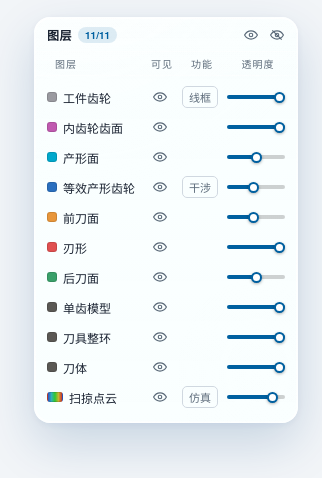
Test case: LayerPanel 图层列表 › 可见计数徽章随显隐联动（11/11 → 隐藏一层 10/11；刀体图层入列 ADR-021）
The image size is (322, 478).
Expected: the text with test id "layer-visible-count" reads "11/11", [85,28,110,42]
Click the button with test id "layer-eye-rake".
click(160, 217)  # box [148,205,172,229]
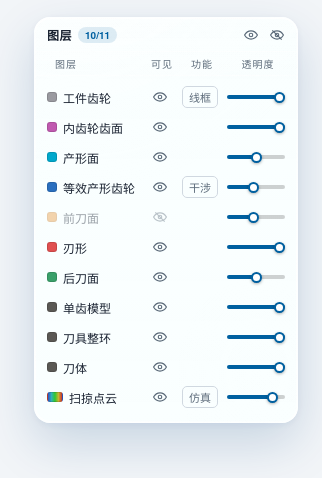
Expected: the text with test id "layer-visible-count" reads "10/11", [85,28,110,42]
Note: 全隐 → 0/11 且徽章转警示态
Click the button with test id "layer-show-none".
click(277, 34)  # box [265,22,289,46]
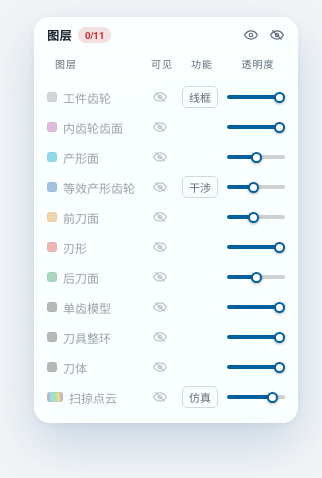
Expected: the text with test id "layer-visible-count" reads "0/11", [85,28,104,42]
